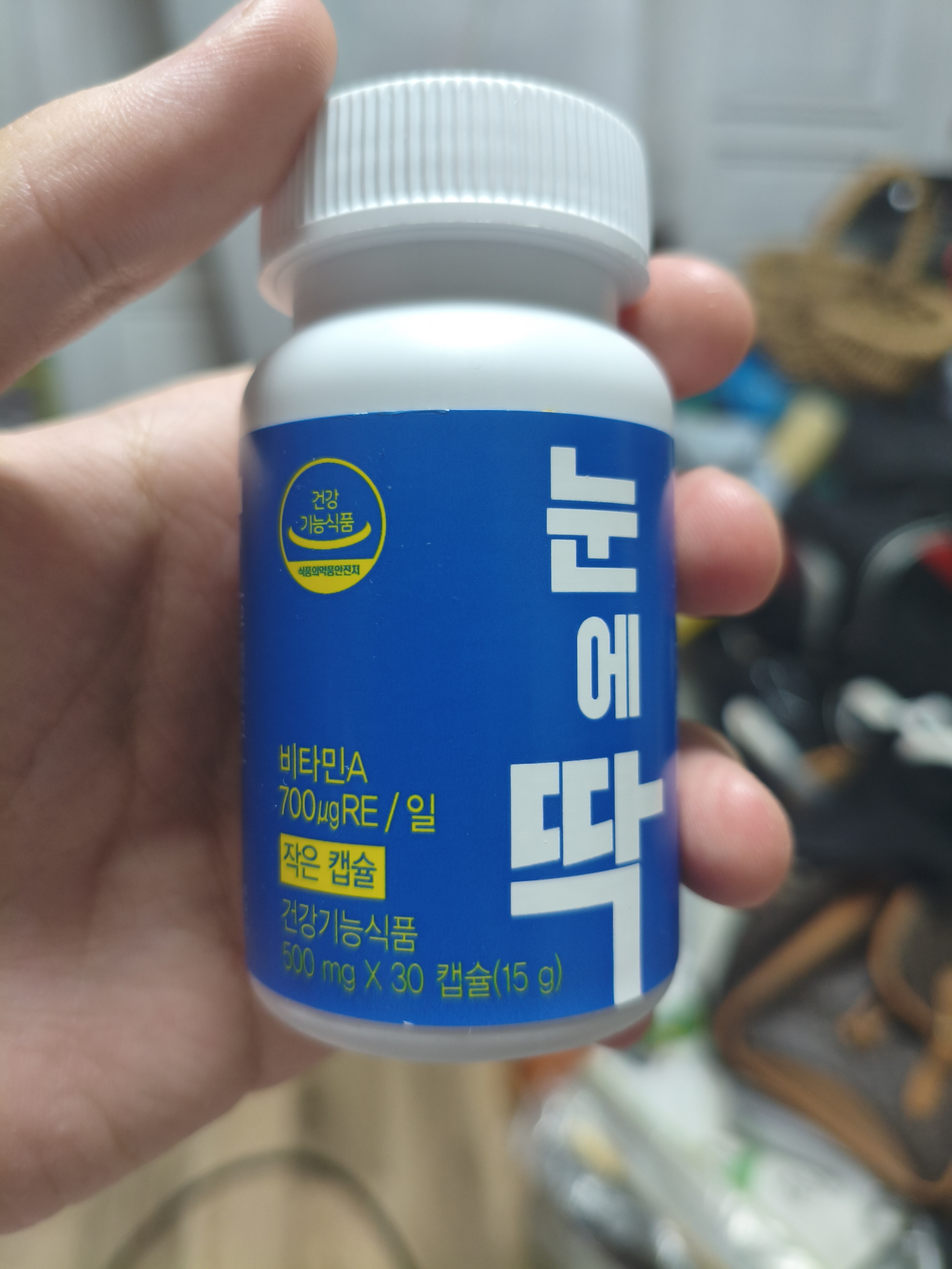supplement_label: (212, 399, 700, 1033)
